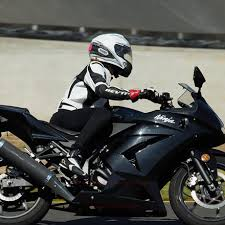helmet: (85, 30, 139, 77)
